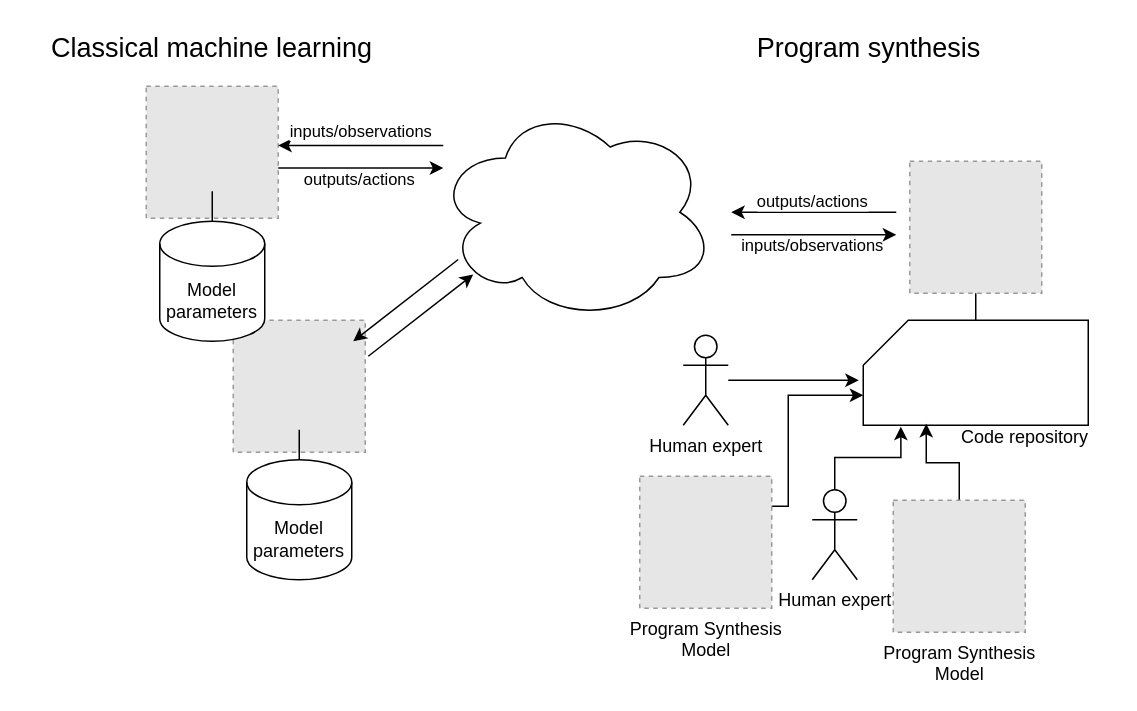
This 1137x711 diagram has some shape labels left out. Grey dashed boxes stand in for pictures. Each missing label, with the centre of its shape:
def algorithm(): ""This is how it's done""": pixel 975 372
Environment/ dataset: pixel 574 211
